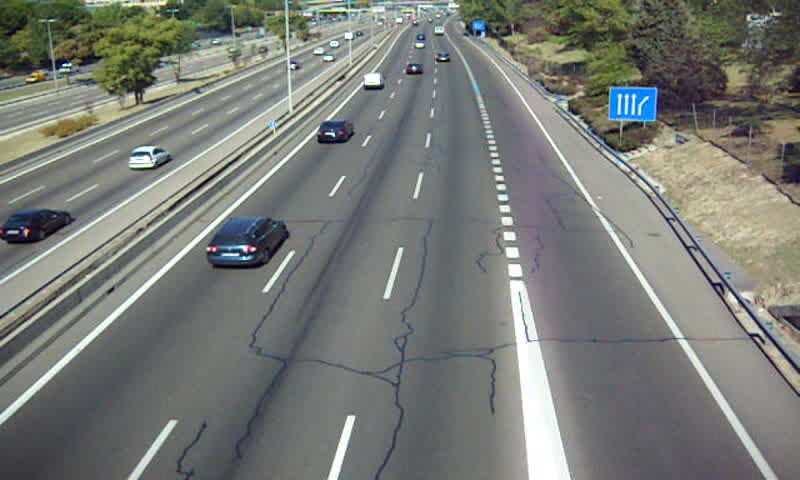car: (205, 216, 288, 267), (317, 121, 353, 143), (406, 62, 423, 77)
van: (364, 73, 382, 90)
